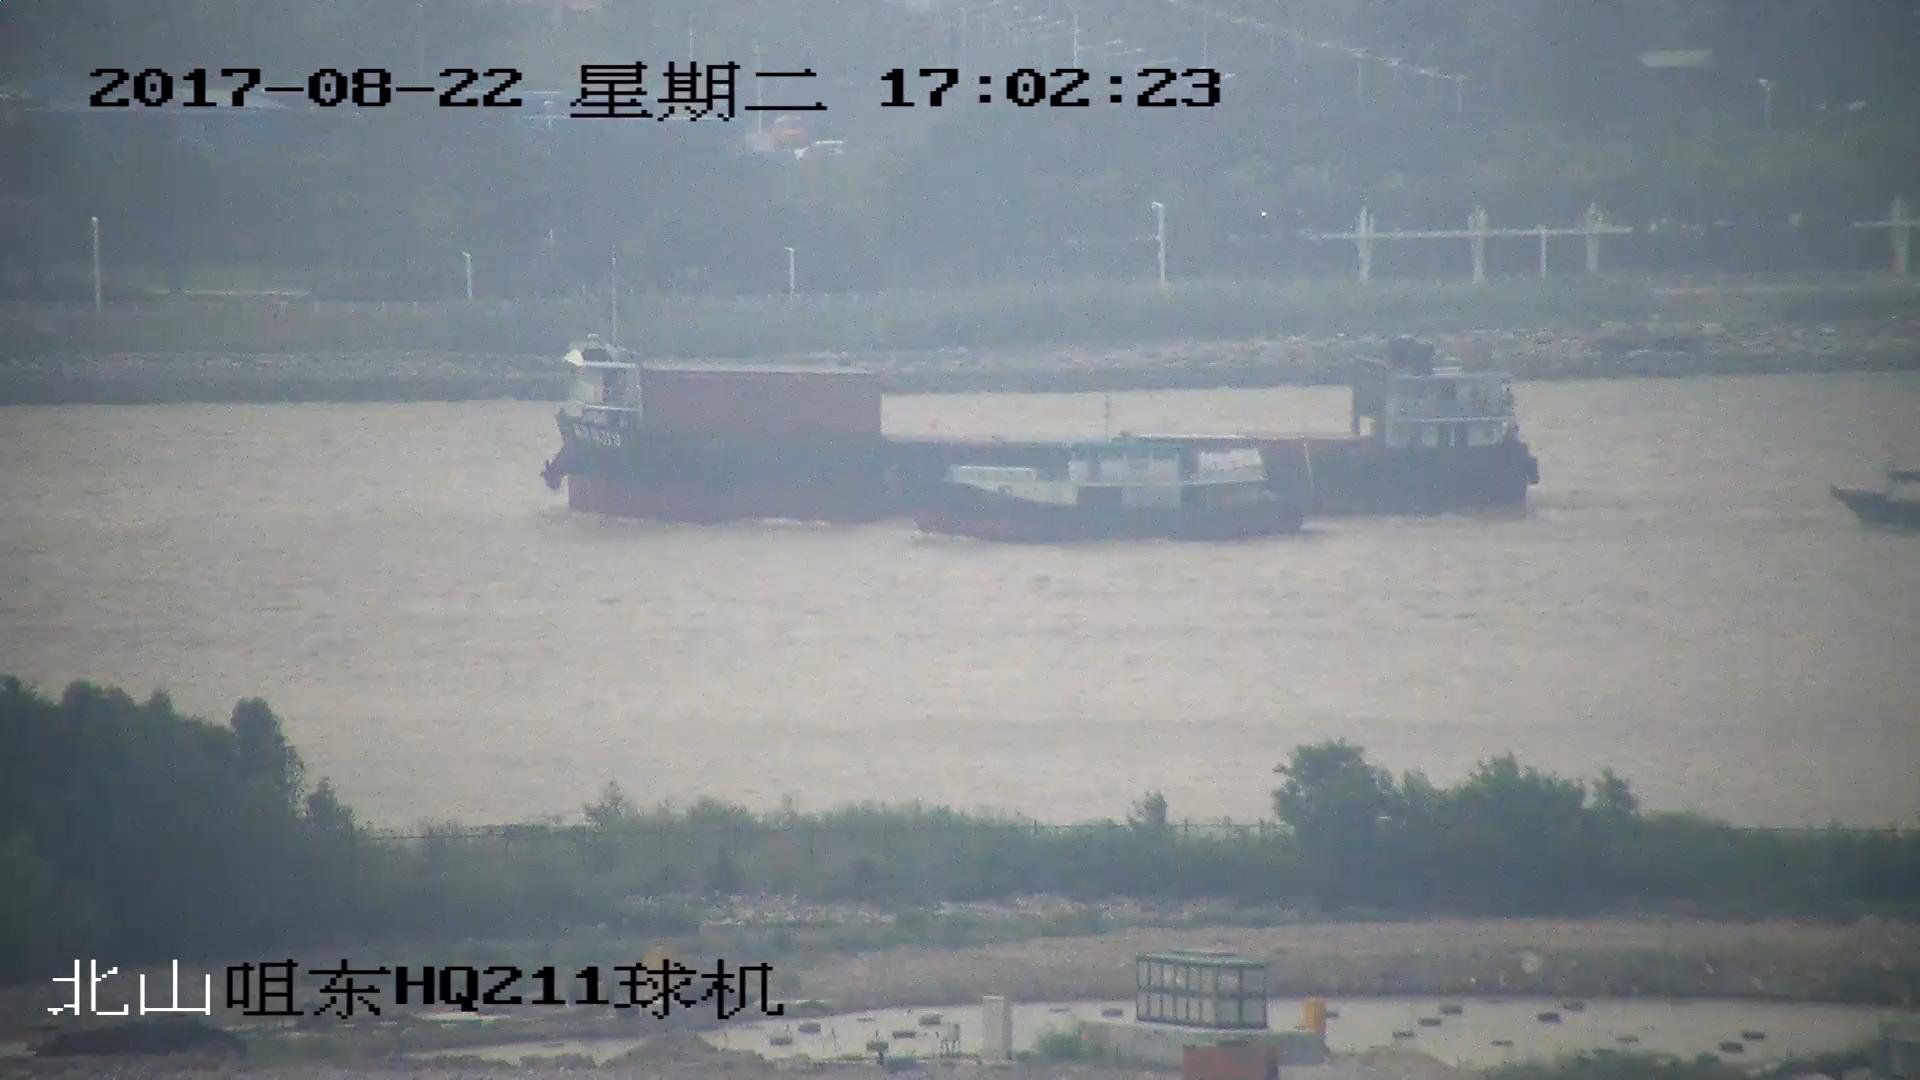fishing boat: (902, 433, 1301, 539)
general cargo ship: (542, 324, 1544, 518)
